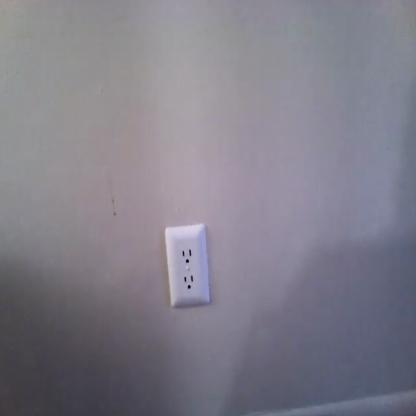OUTLET: (164, 226, 210, 304)
